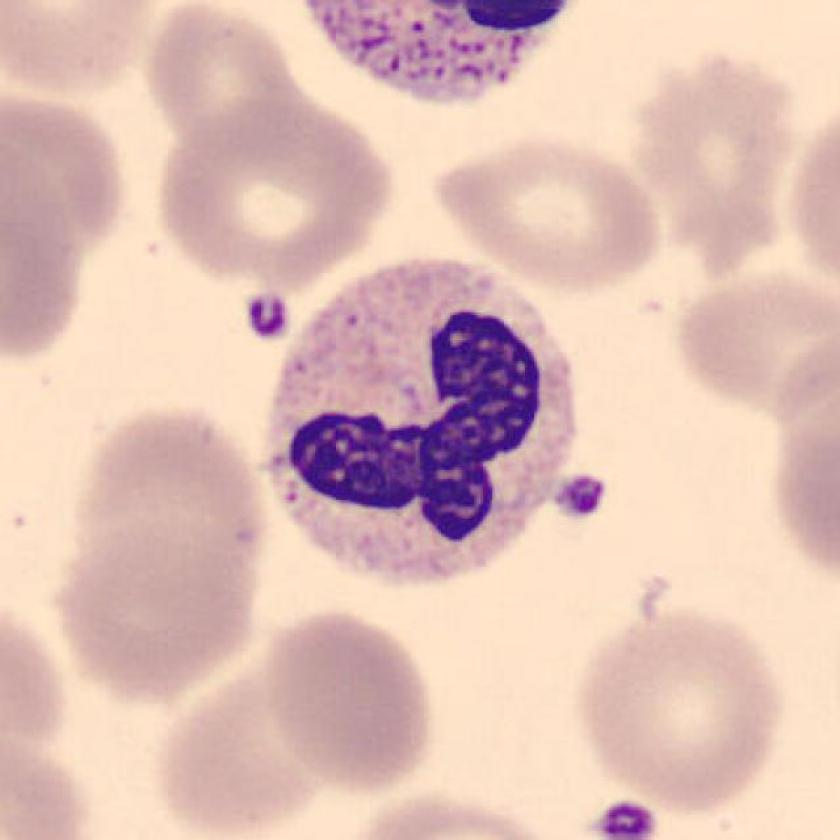neutrophil: (264, 265, 574, 576)
